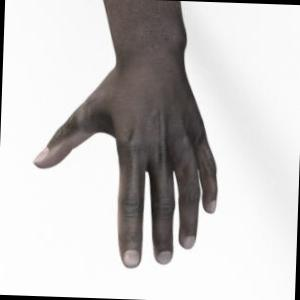paper: (34, 0, 216, 268)
